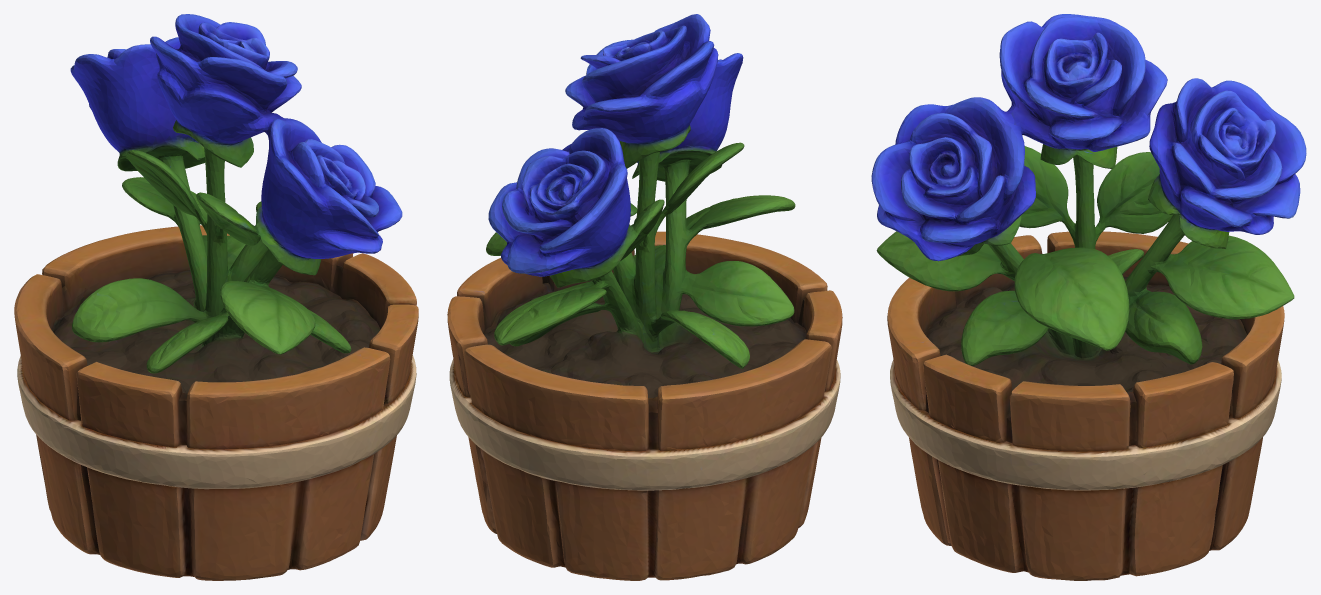
File: flower_6.glb
3 views of the same model, side by side, from view 1: azimuth 30°, elevation 25°; view 2: azimuth 150°, elevation 25°; view 3: azimuth 270°, elevation 25° (orthographic).
Visible parts, largest first — view 1: tripo_node_8ebefb7b-4f98-406d-ba00-1376e5a15344; view 2: tripo_node_8ebefb7b-4f98-406d-ba00-1376e5a15344; view 3: tripo_node_8ebefb7b-4f98-406d-ba00-1376e5a15344.
Boxes of the visible parts, box(x1,y1,x2,y2) form: tripo_node_8ebefb7b-4f98-406d-ba00-1376e5a15344: box(14, 14, 418, 580); tripo_node_8ebefb7b-4f98-406d-ba00-1376e5a15344: box(447, 14, 842, 580); tripo_node_8ebefb7b-4f98-406d-ba00-1376e5a15344: box(871, 14, 1306, 580).
Bounding box in the file's own units: 0.7411 × 0.9998 × 0.8129.
1 material, 1 textured.
